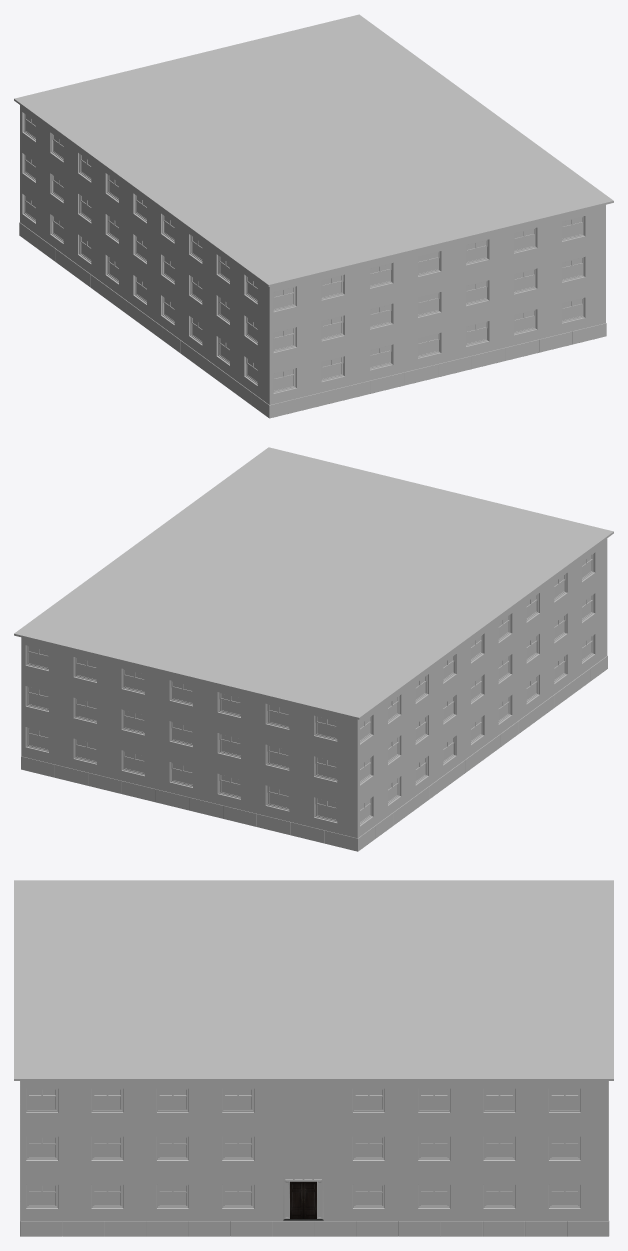
The model's file is Hospital_var03_sm.FBX.
3 renders of one model, top to bottom at view 1: azimuth 30°, elevation 25°; view 2: azimuth 150°, elevation 25°; view 3: azimuth 270°, elevation 25°, orthographic. The views are drawn at different scales.
Visible parts, largest first — view 1: Hospital_var03_sm_LOD0; view 2: Hospital_var03_sm_LOD0; view 3: Hospital_var03_sm_LOD0.
Boxes of the visible parts, x1,y1,x2,y2 form: Hospital_var03_sm_LOD0: (14,14,613,418); Hospital_var03_sm_LOD0: (14,447,613,851); Hospital_var03_sm_LOD0: (14,880,613,1236).
Size of what is drawn, in the model's own units: 2921 by 3731 by 1101.
